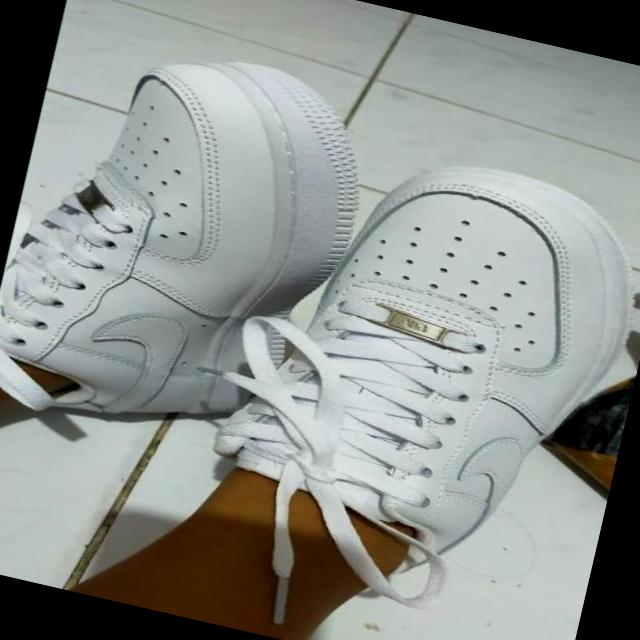nike_fake_airforce: (189, 115, 640, 620), (0, 18, 388, 465)
